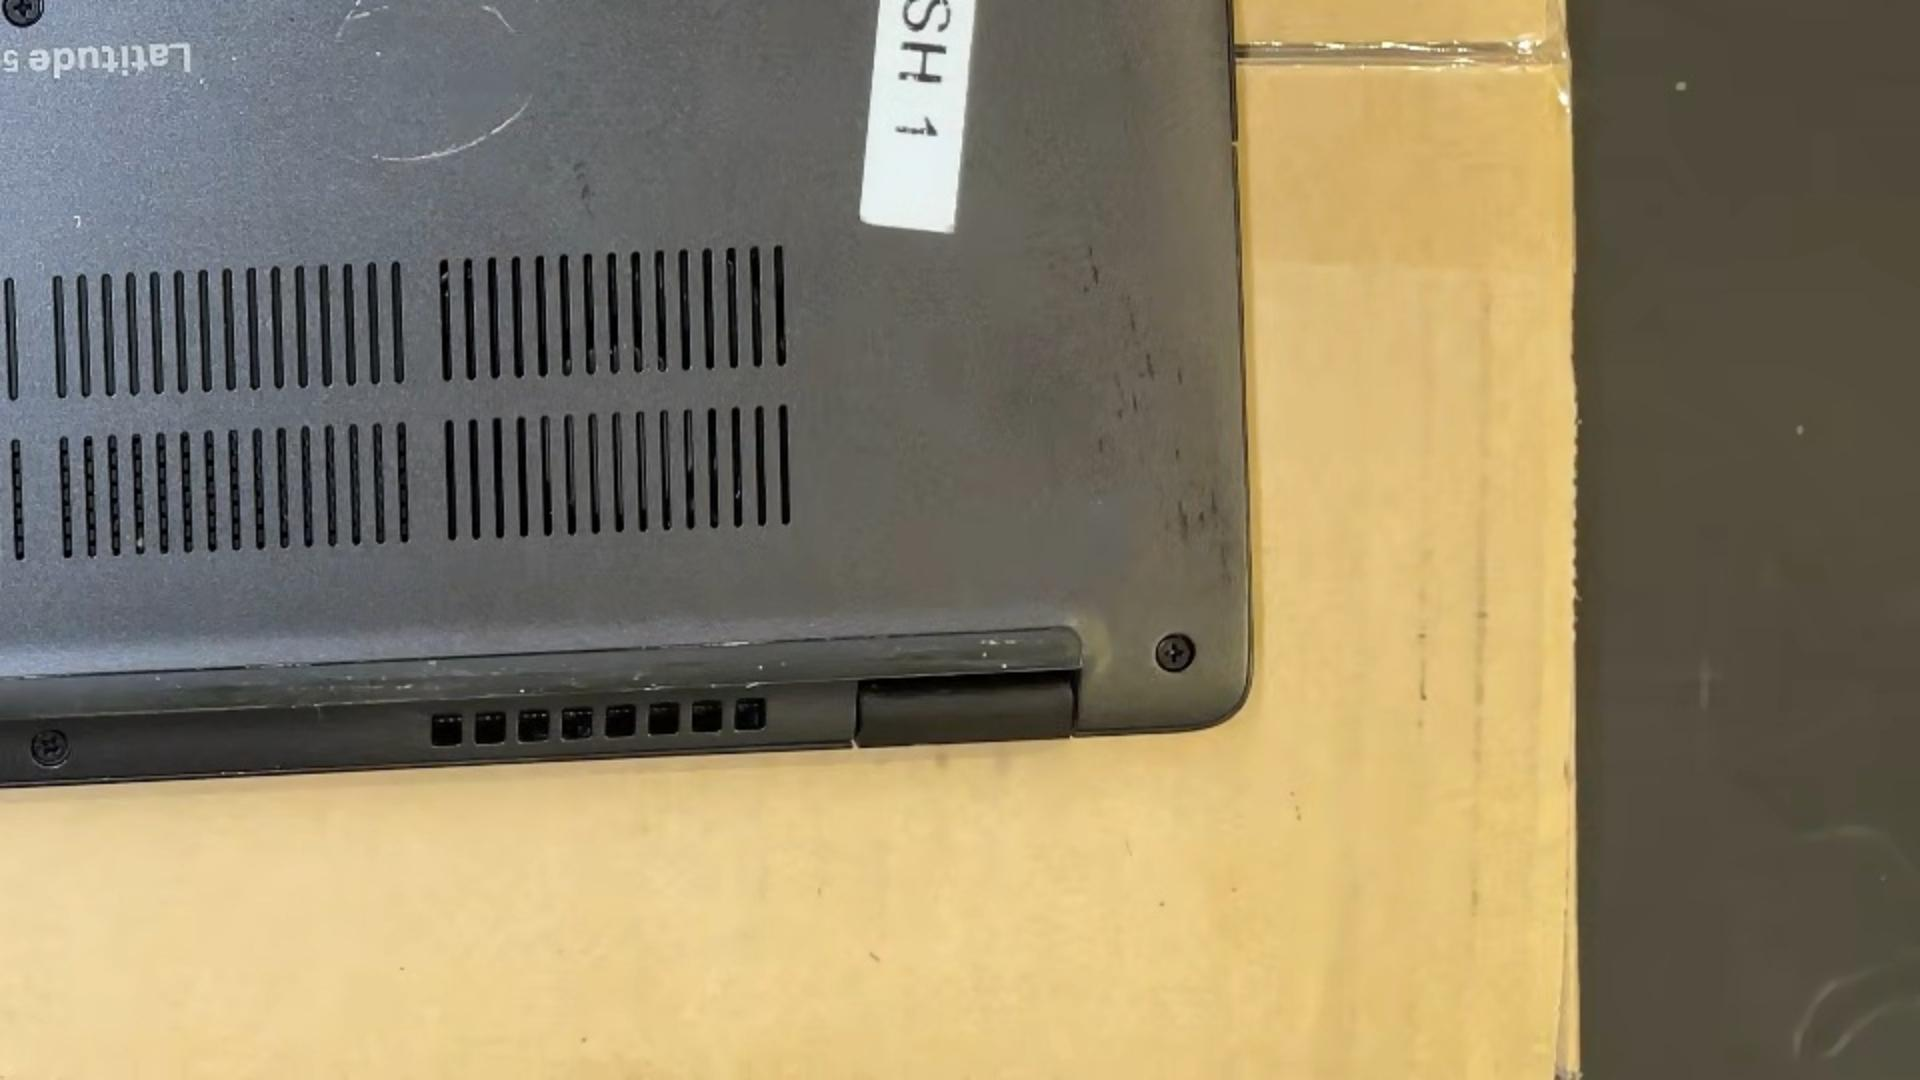chip: (196, 76, 210, 88), (229, 54, 239, 63), (373, 50, 382, 58), (1000, 662, 1009, 670), (981, 651, 988, 658), (758, 663, 764, 670)
scratches: (371, 94, 535, 165), (334, 0, 367, 41), (480, 3, 517, 34), (351, 3, 389, 21), (1088, 241, 1101, 289), (1126, 293, 1138, 332), (1145, 349, 1156, 382), (1211, 489, 1220, 517), (1176, 364, 1184, 385), (1131, 390, 1139, 411), (71, 215, 82, 229), (1175, 446, 1183, 462), (1098, 436, 1105, 455)
